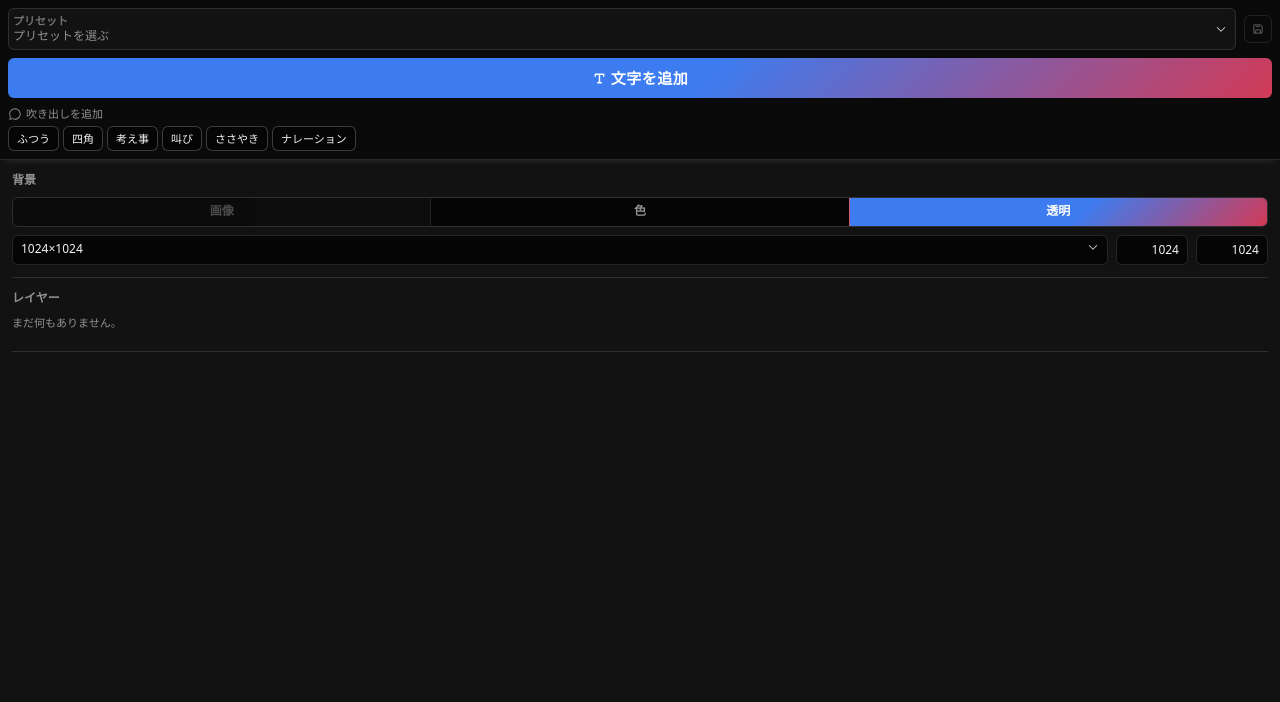
bubble properties › hides the pointer controls for a narration box
Click the button with test id "text-add-burst" at (182, 138), box [162, 126, 202, 151]
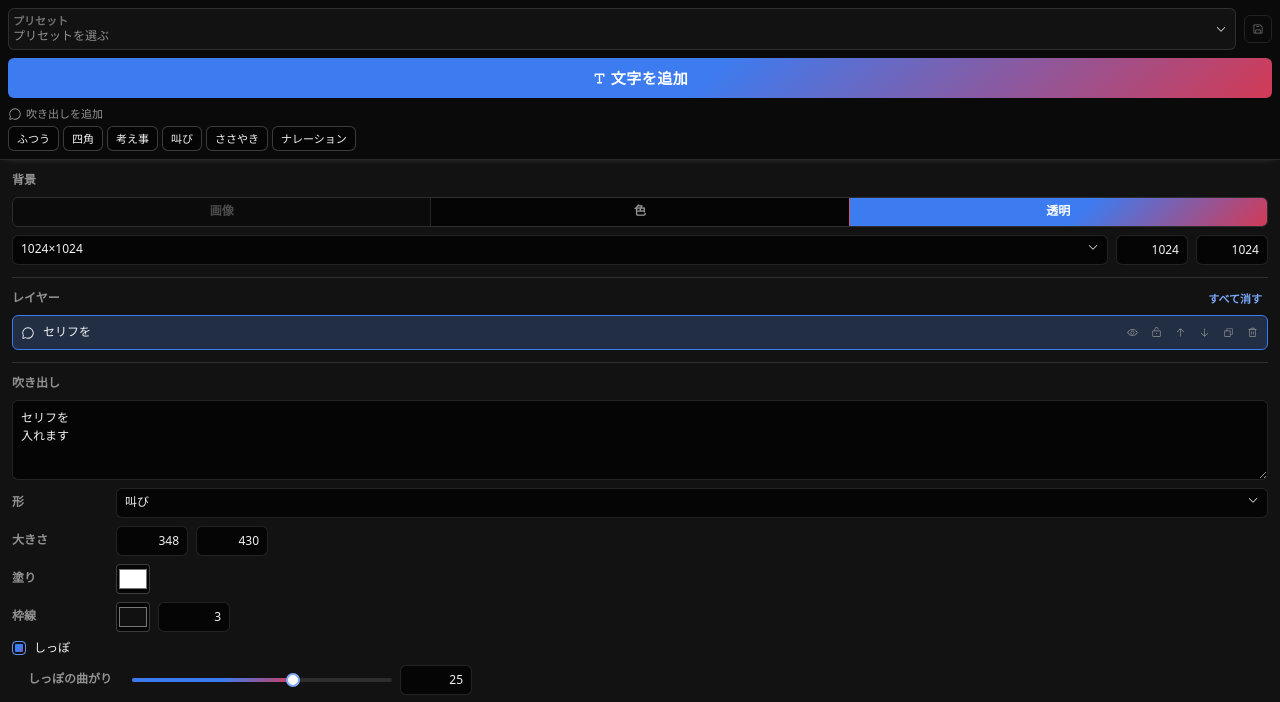
Click the button with test id "text-add-narration" at (314, 138), box [272, 126, 356, 151]
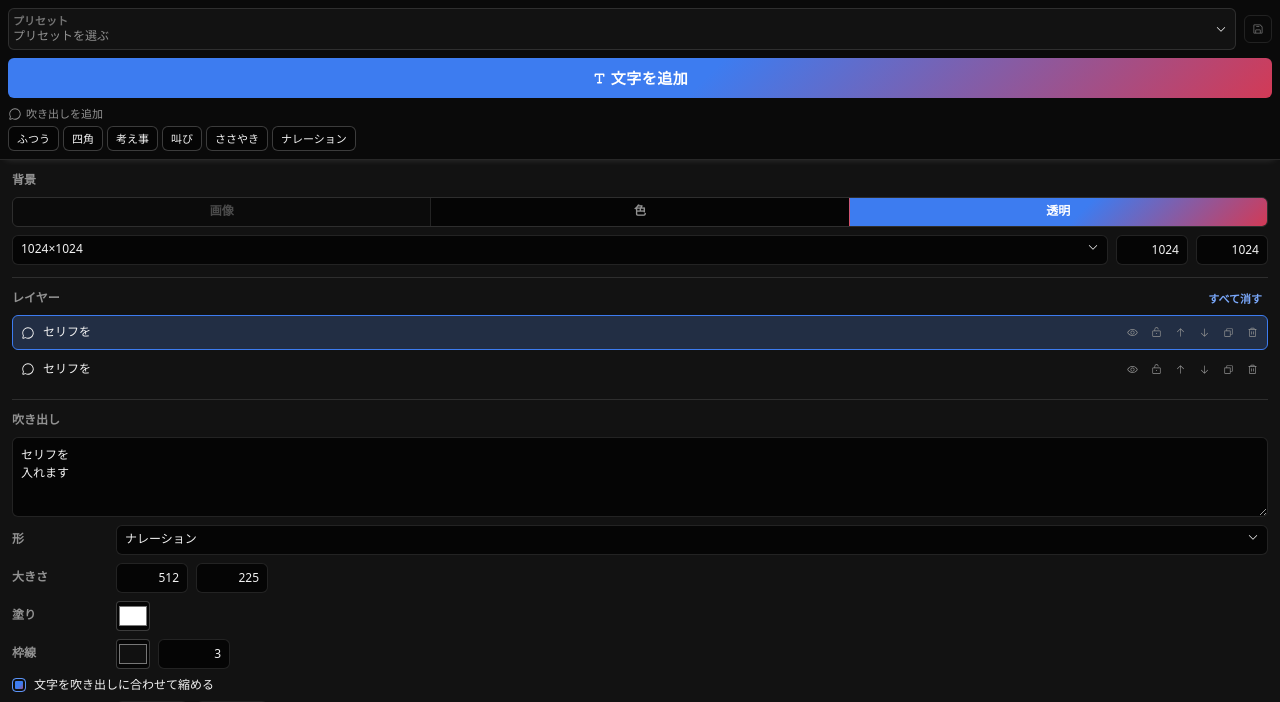
Expected: the text labelled "しっぽ" is gone
